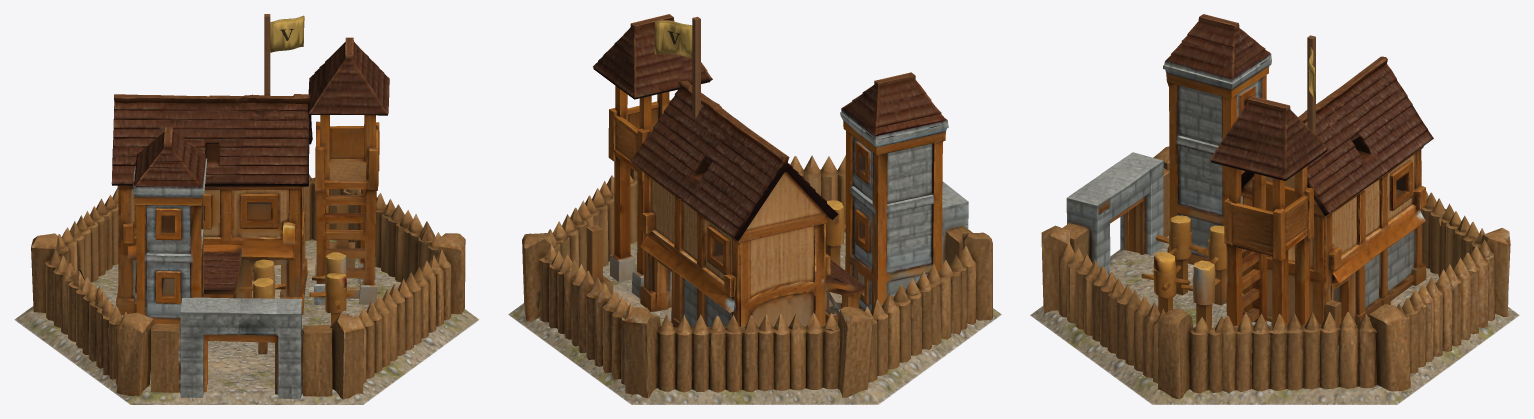
Rendered from barracks-5.glb.
The picture shows the model from 3 angles, left to right: view 1: azimuth 30°, elevation 25°; view 2: azimuth 150°, elevation 25°; view 3: azimuth 270°, elevation 25°; orthographic projection. The views are drawn at different scales.
Parts seen in each view (by area): view 1: architecture, ground, tier-banner; view 2: architecture, ground, tier-banner; view 3: architecture, ground.
Part boxes in pixels (bbox=[...]): architecture: bbox=[31, 14, 465, 399]; ground: bbox=[14, 239, 479, 404]; tier-banner: bbox=[270, 15, 304, 52]; architecture: bbox=[522, 14, 992, 398]; ground: bbox=[508, 232, 1001, 404]; tier-banner: bbox=[654, 20, 692, 57]; architecture: bbox=[1041, 14, 1510, 399]; ground: bbox=[1030, 236, 1519, 404].
Size of the model in its own units: 1.6 by 1.23 by 1.84.
Materials: 3 (3 with a texture image).
